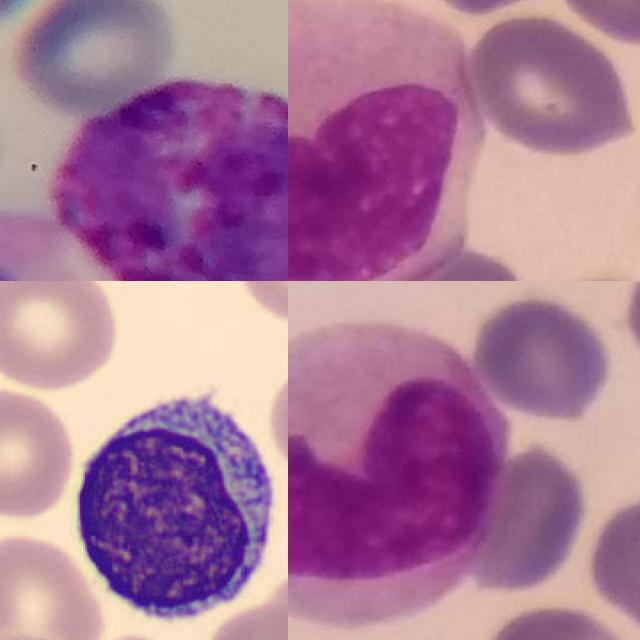Basophil: (56, 81, 288, 281)
Lymphocyte: (58, 372, 288, 635)
Monocyte: (288, 315, 509, 628), (288, 0, 491, 281)
RBC: (0, 281, 120, 393), (0, 528, 108, 640), (0, 386, 76, 522), (197, 599, 288, 640)
